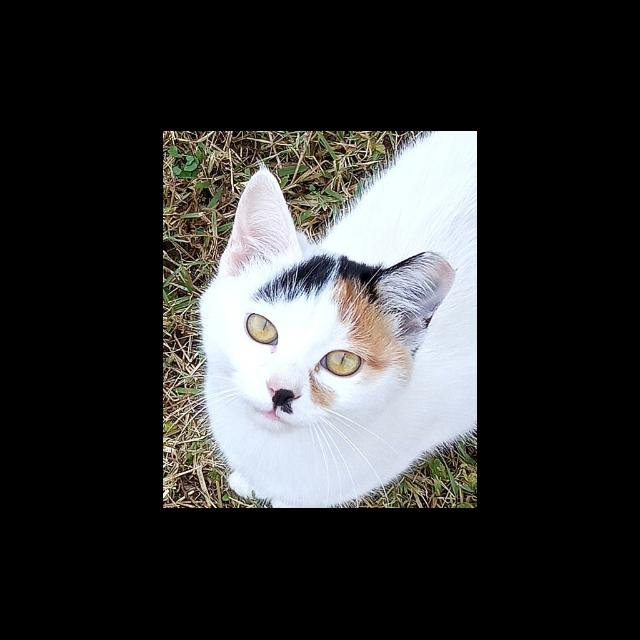animals: (200, 164, 458, 435)
